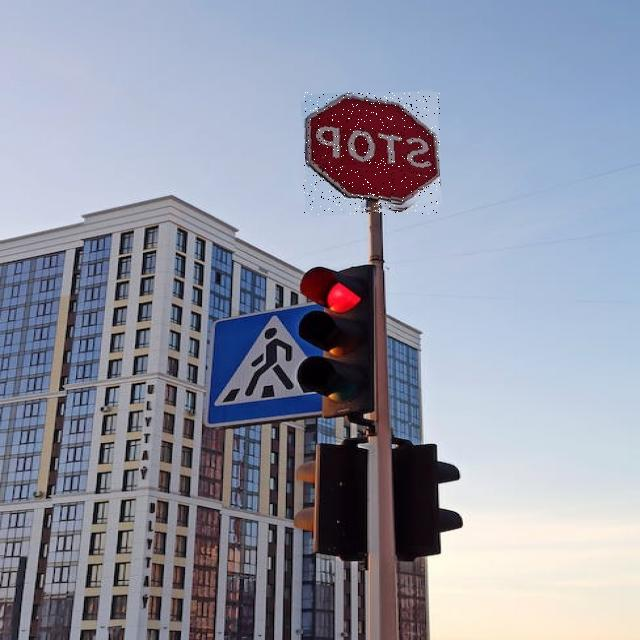stop: (303, 92, 440, 215)
